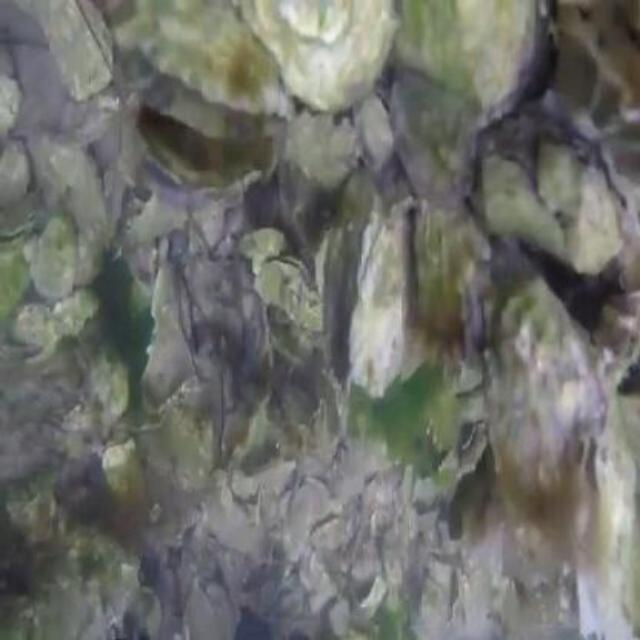Oyster-Closed: (484, 280, 606, 591), (0, 495, 140, 640), (233, 0, 400, 114), (394, 0, 544, 122), (337, 202, 406, 394), (479, 148, 565, 256), (33, 0, 114, 103)
Oyster-Open: (107, 0, 292, 141), (126, 83, 278, 200), (393, 196, 476, 347), (0, 201, 32, 249)
